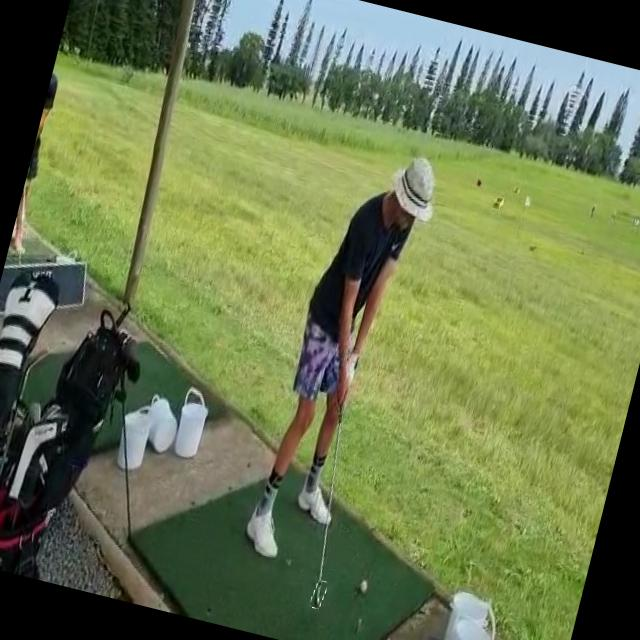club head: (310, 580, 328, 610)
